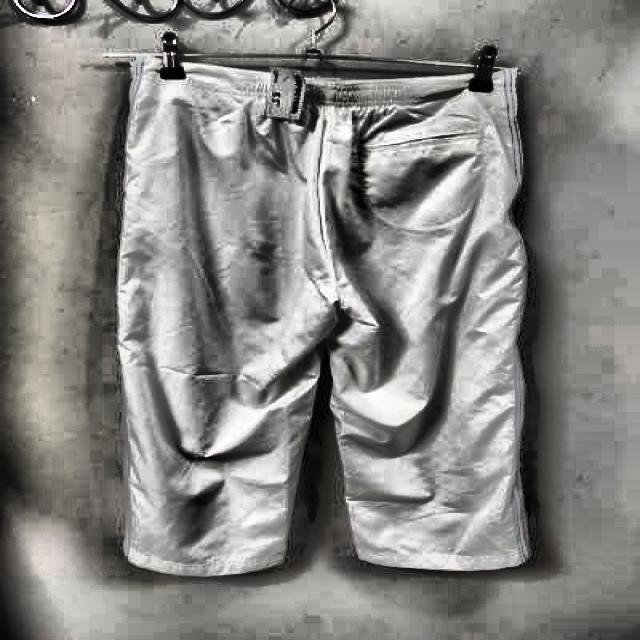clothes: (107, 48, 555, 576)
